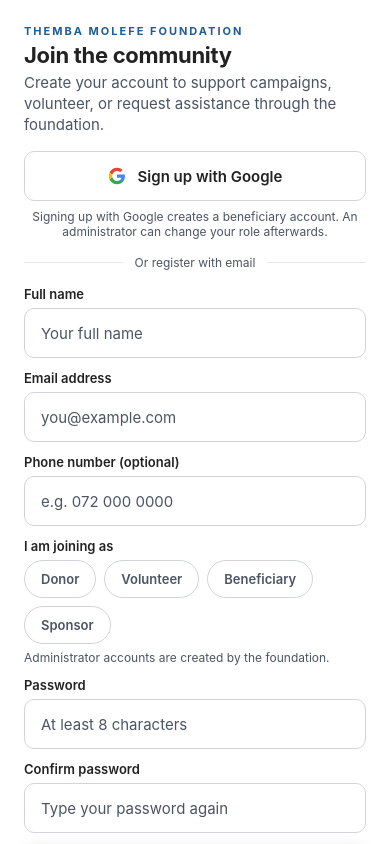
RegisterScreen › tells the user to check their email when confirmation is on
Step 1. Type "Thandi Mokoena" into the field with placeholder "Your full name" → (195, 333), box 24,308 -> 366,358
Step 2. Type "thandi@example.com" into the field with placeholder "you@example.com" → (195, 417), box 24,392 -> 366,442
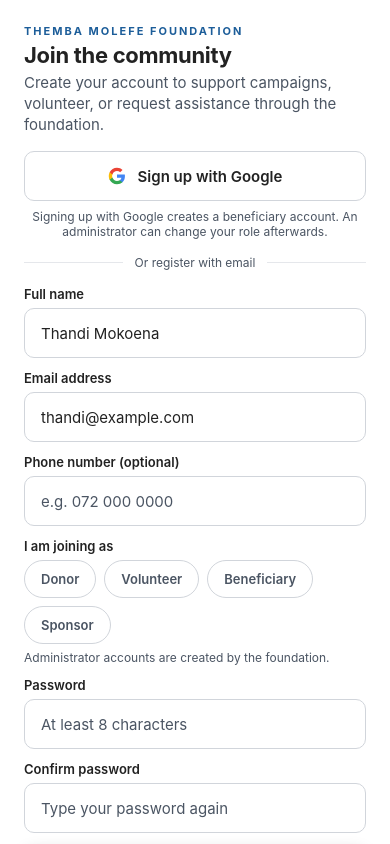
Step 3. Type "072 000 0000" into the field with placeholder "e.g. 072 000 0000" → (195, 501), box 24,476 -> 366,526
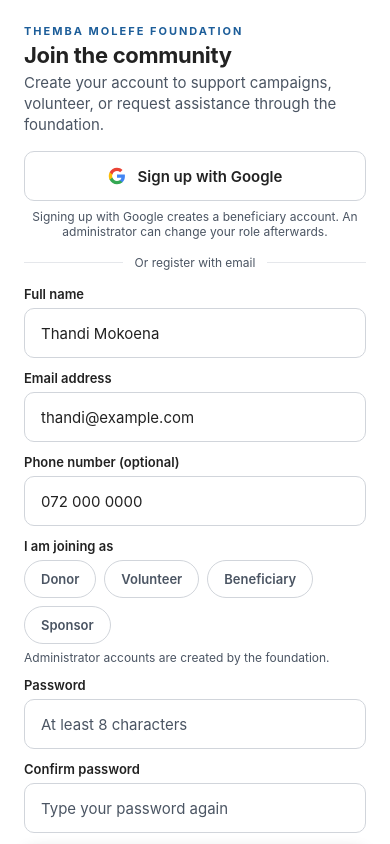
Step 4. Type "community123" into the password field with placeholder "At least 8 characters" → (195, 724), box 24,699 -> 366,749
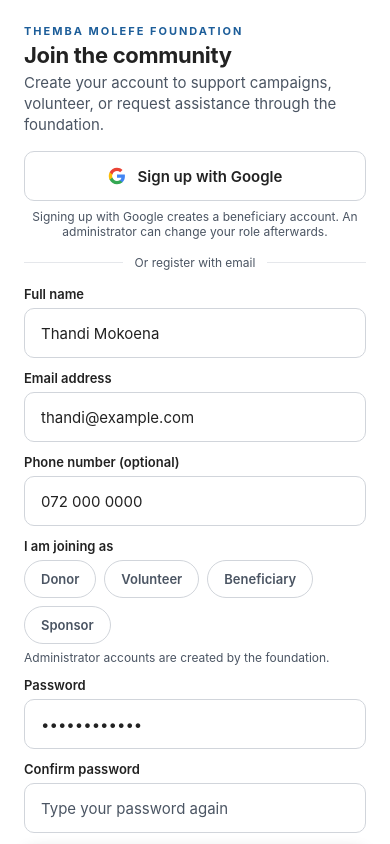
Step 5. Type "community123" into the password field with placeholder "Type your password again" → (195, 808), box 24,783 -> 366,833
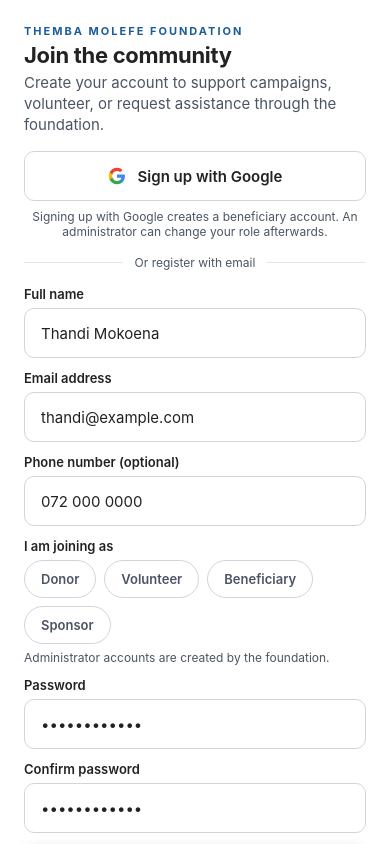
Step 6. Click the radio button "Volunteer" → (152, 579), box 104,560 -> 199,598
(page scrolled)
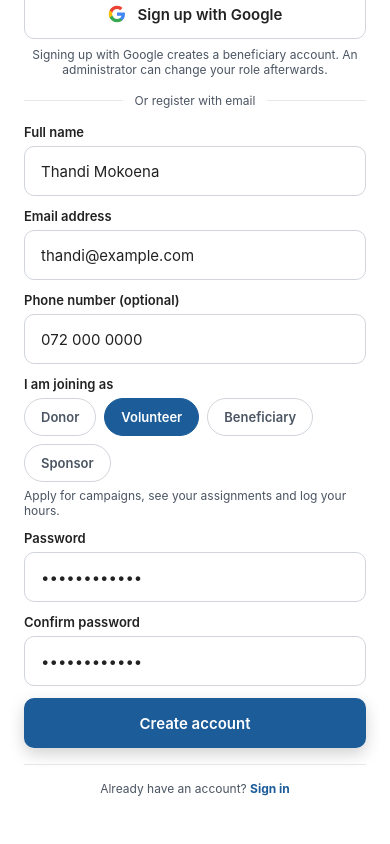
Step 7. Click the button "Create account" → (195, 723), box 24,698 -> 366,748
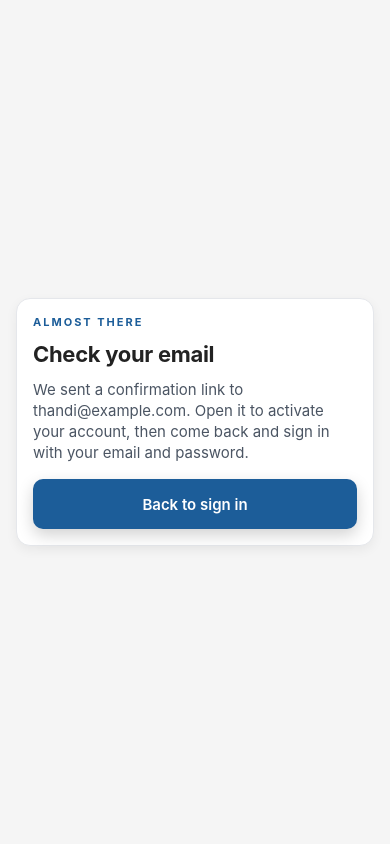
Check: the text "Check your email" is shown, box 33,341 -> 214,367
